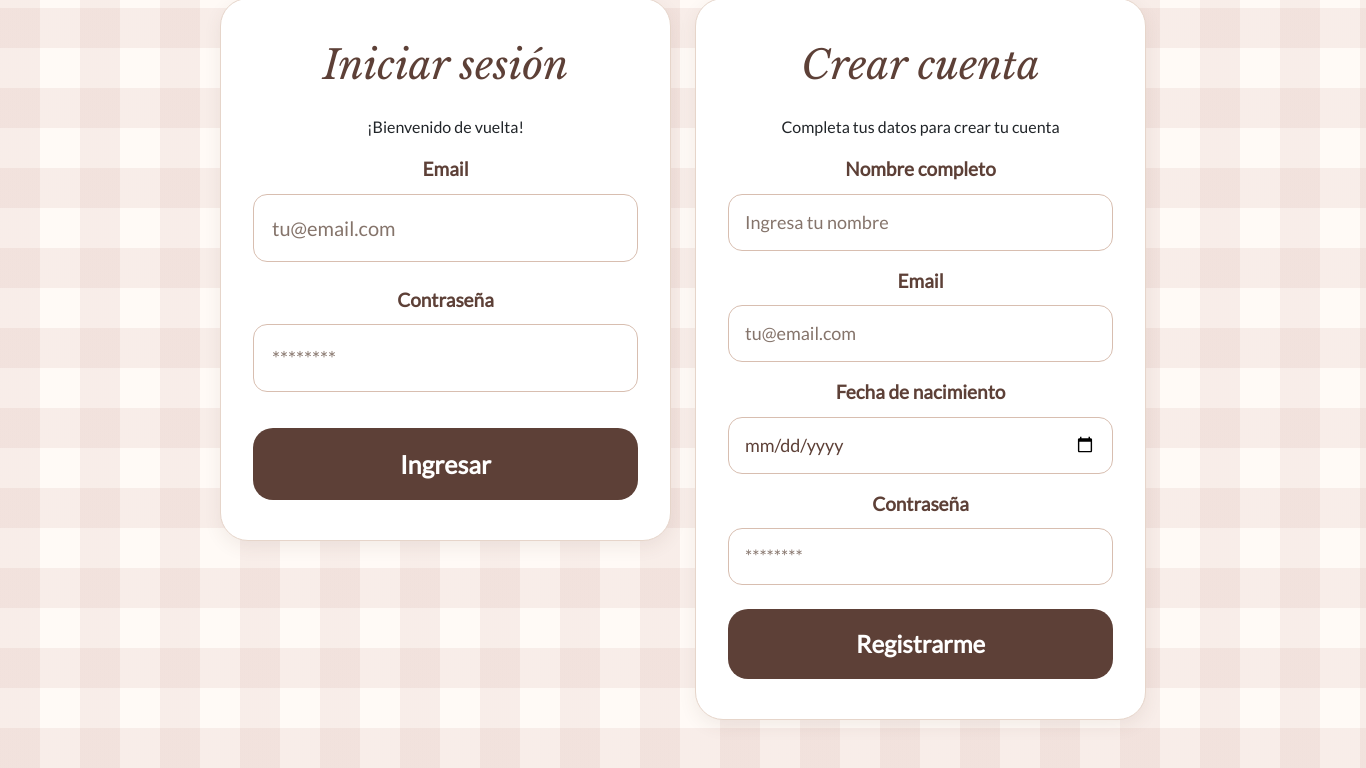
it: Registro de clientes › muestra un error si hay campos vacíos
(page scrolled)
Click the button "Registrarme" at (920, 644), box [728, 609, 1113, 679]
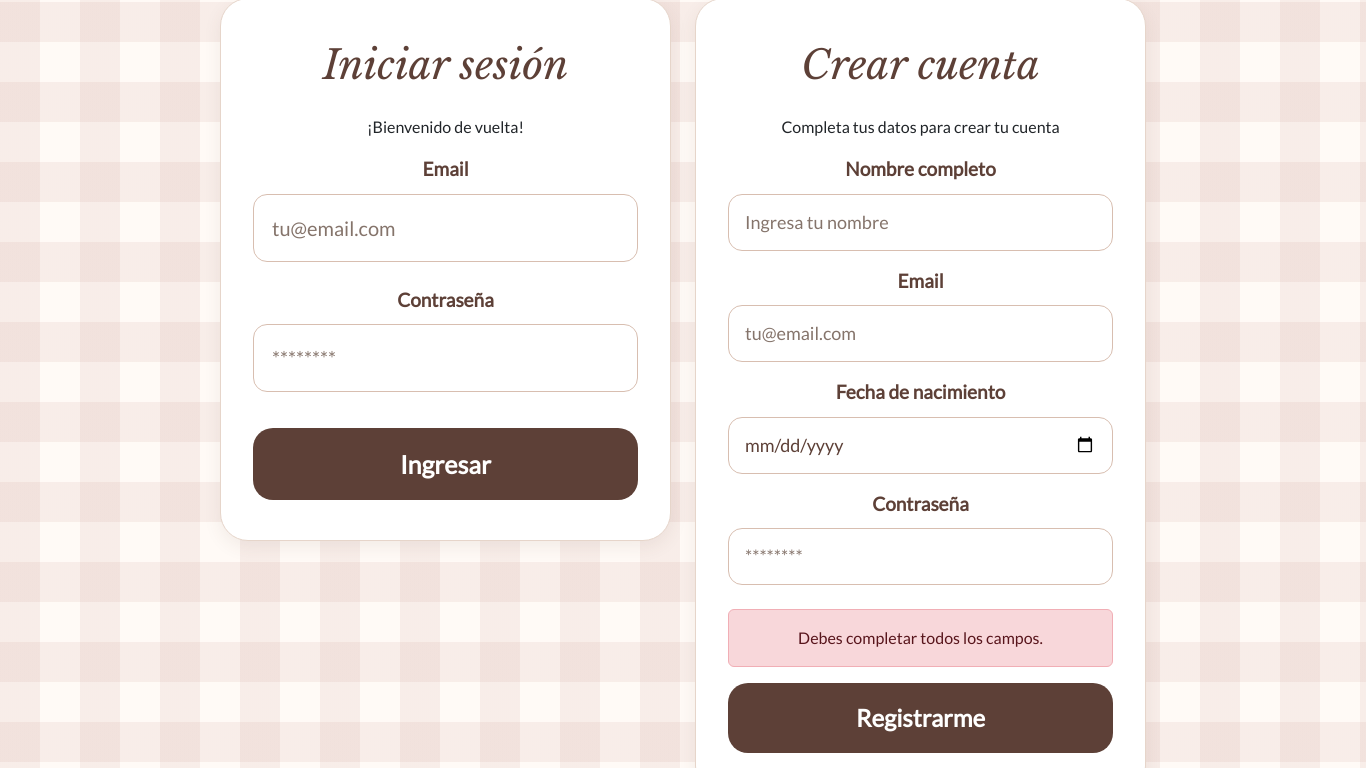
Expected: the text "Debes completar todos los campos." is shown, [728, 609, 1113, 667]
